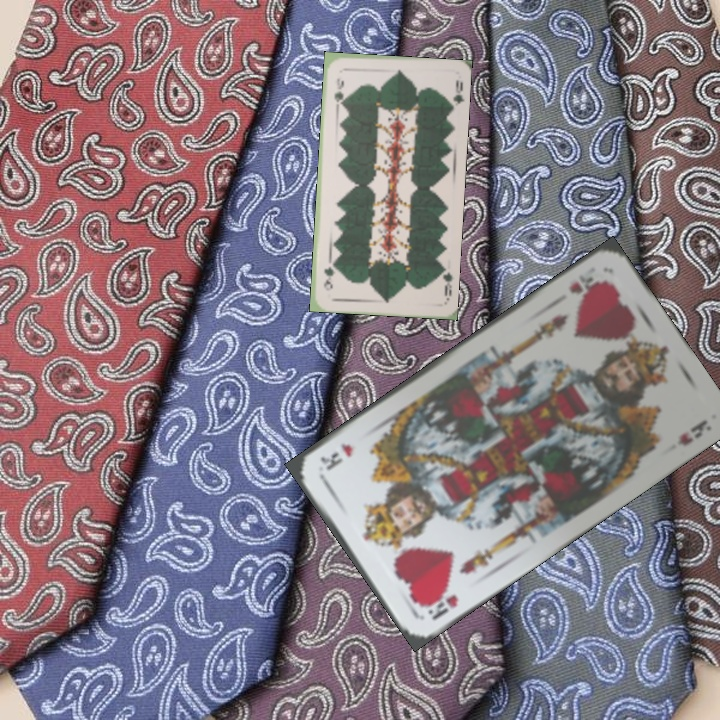G9: (435, 262, 455, 303), (330, 74, 345, 108)
HK: (416, 586, 461, 623), (565, 270, 609, 299)
